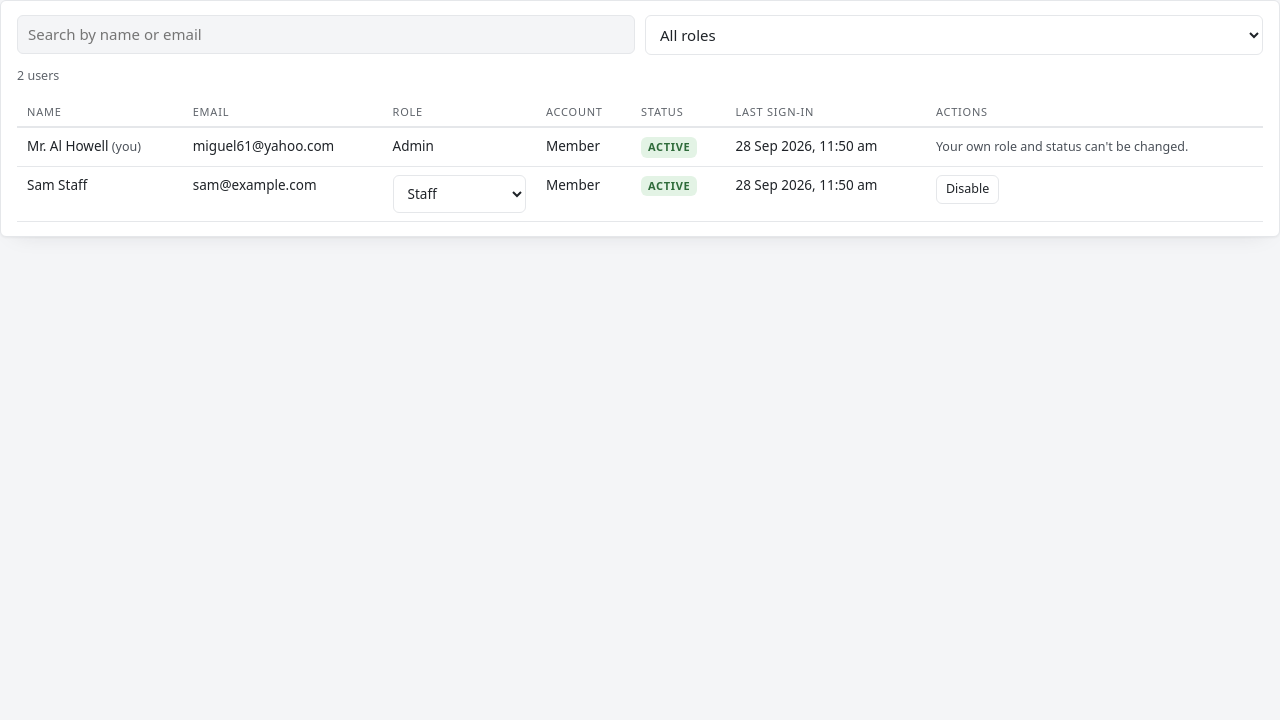
Test case: UsersPage problems › shows the last-admin 409 and keeps the list
Click the button with aria-label "Disable Sam Staff" at (968, 189), box x1=936 y1=175 x2=999 y2=204
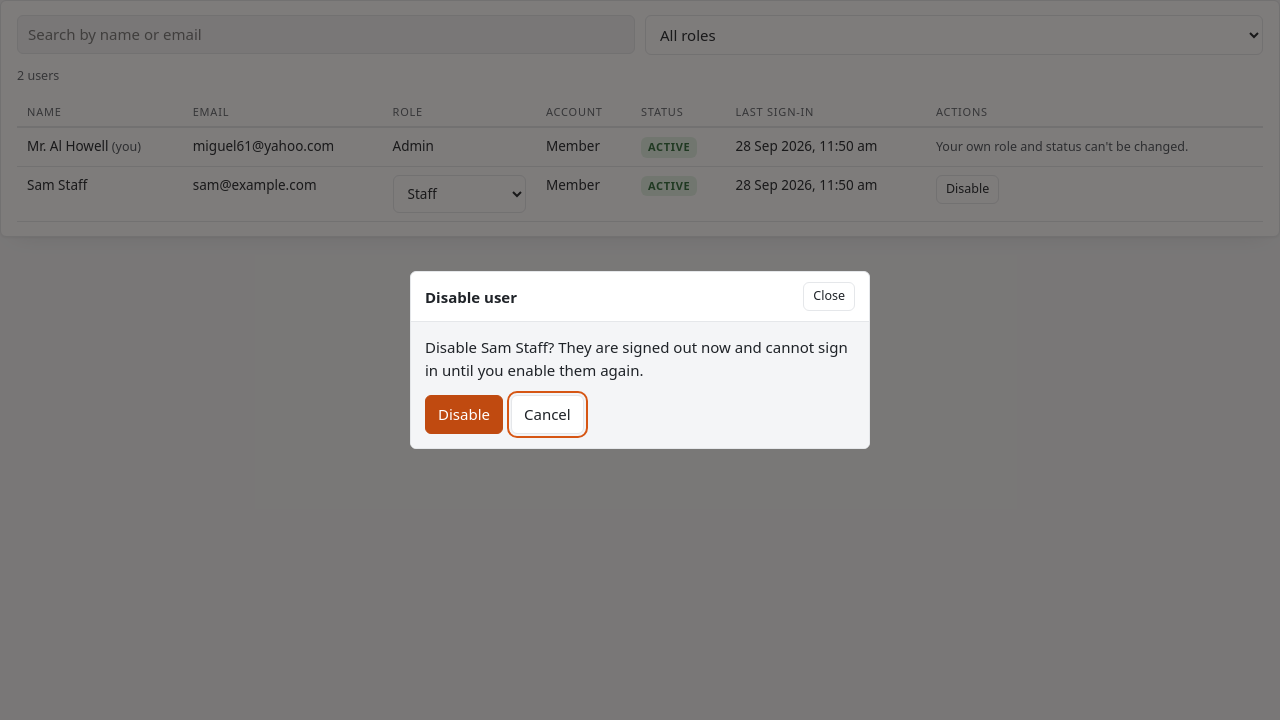
Click the button "Disable" at (464, 414), box x1=425 y1=395 x2=503 y2=434
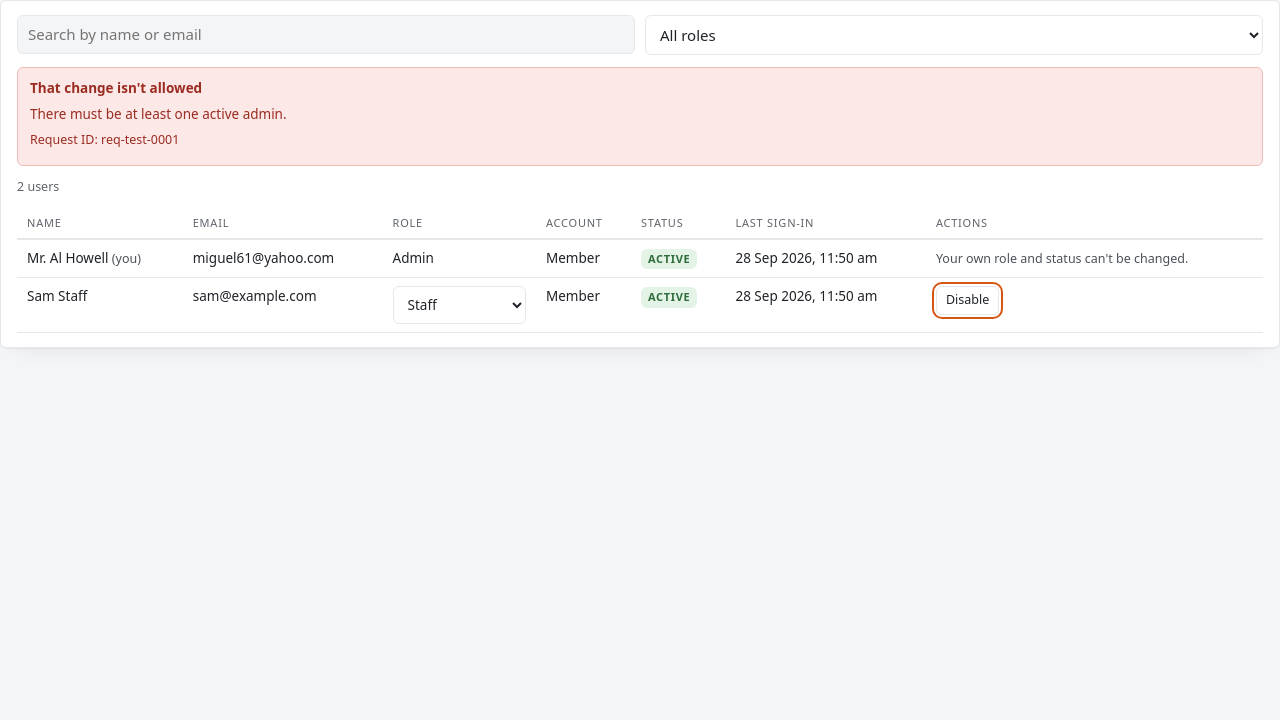
Expected: the text "Sam Staff" is shown, x1=17 y1=278 x2=183 y2=332
Result: the message that starts with "That change isn't allowed" shows "There must be at least one active admin." at x1=30 y1=105 x2=287 y2=123
Result: the dialog is gone
